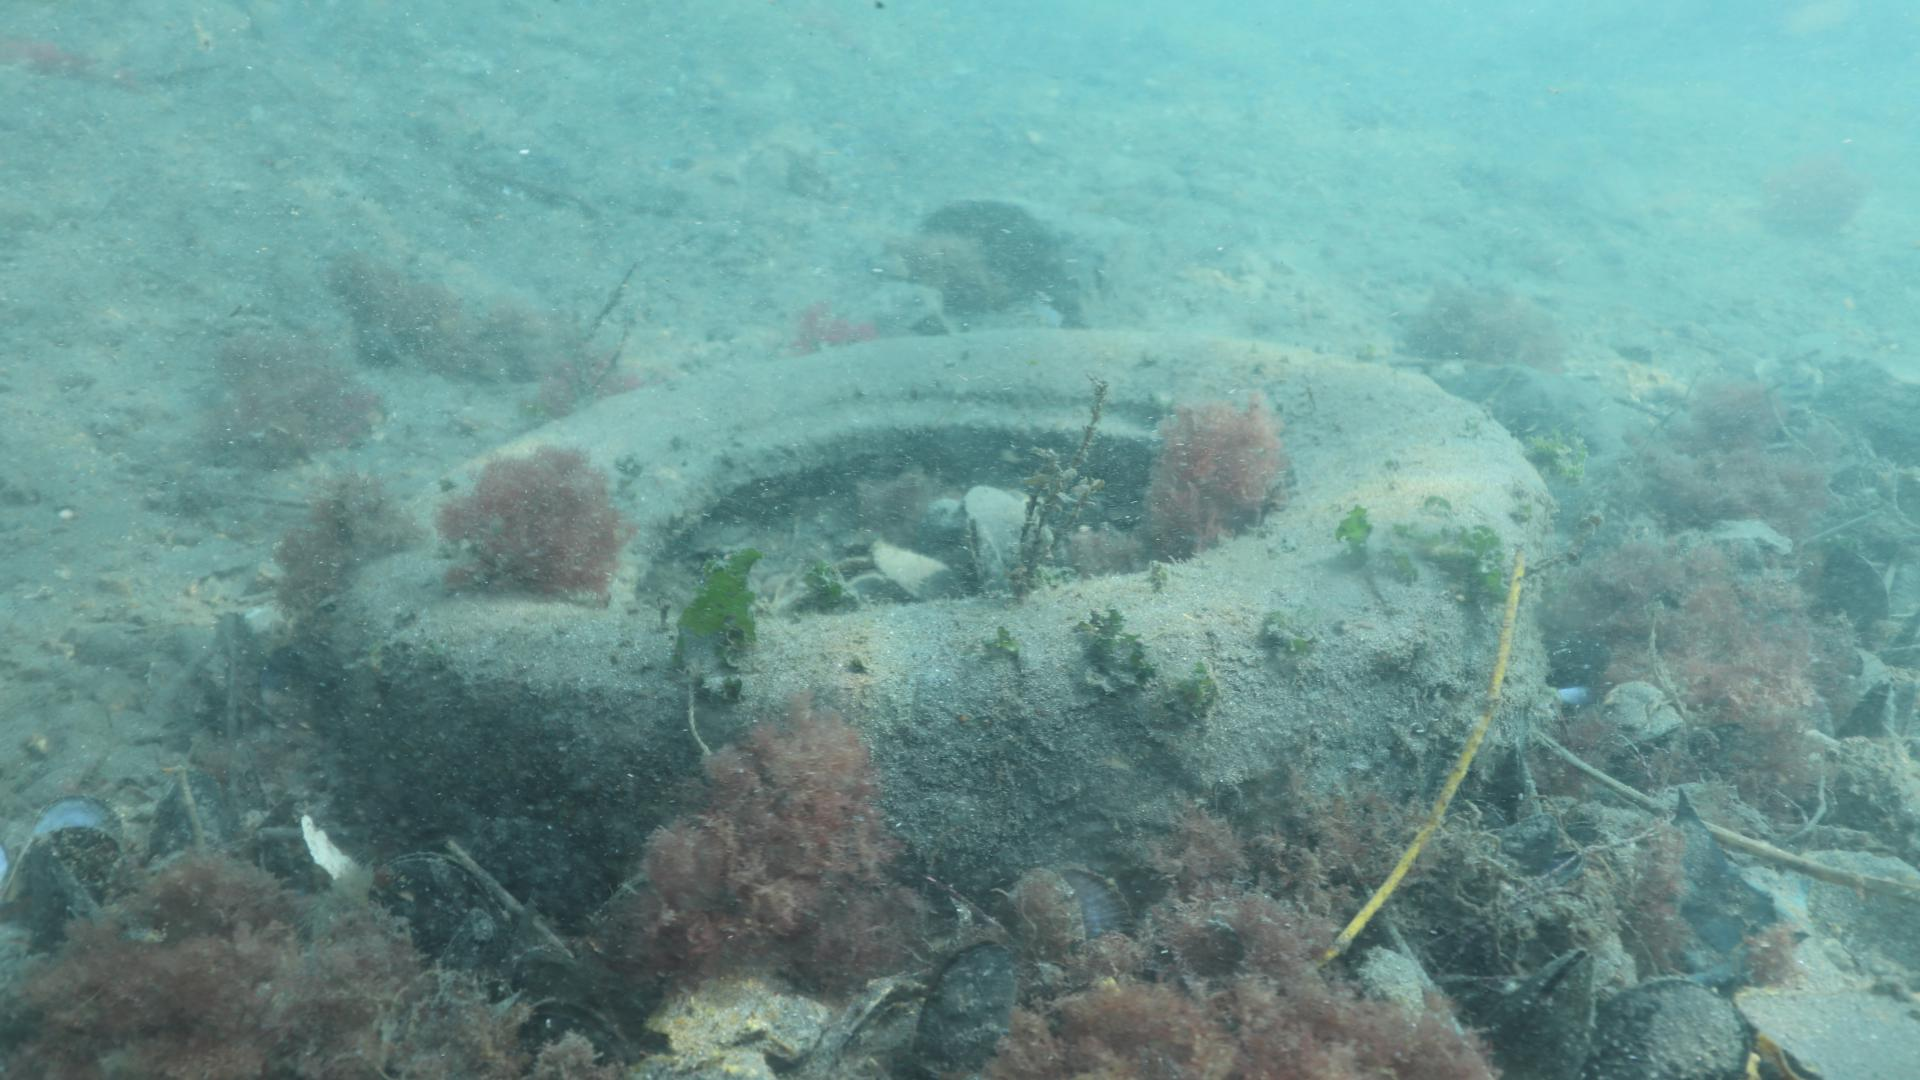tire: (314, 324, 1556, 919)
